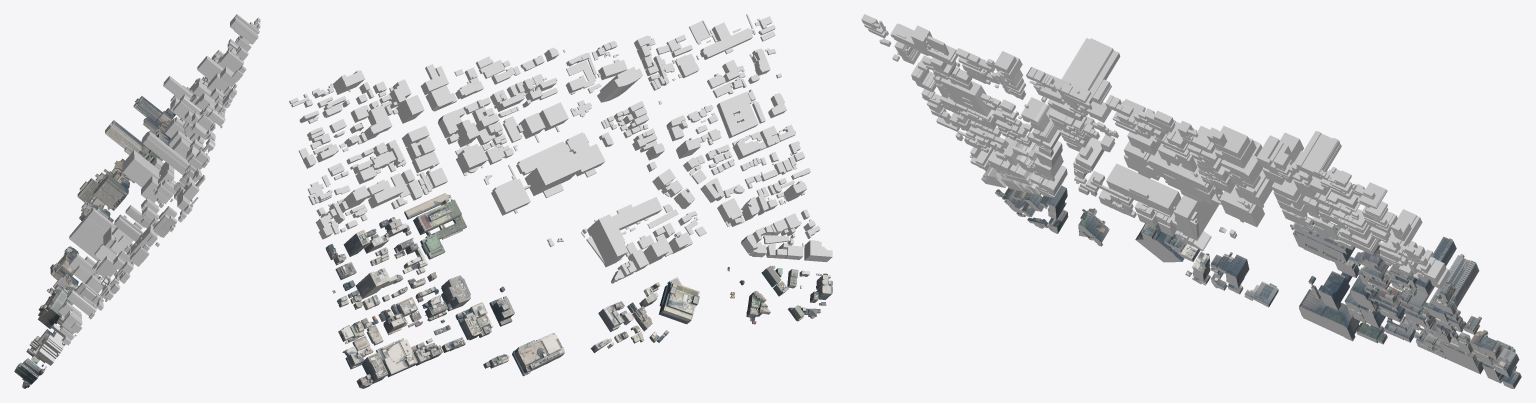
Rendered from data132.glb.
The picture shows the model from 3 angles, left to right: view 1: azimuth 30°, elevation 25°; view 2: azimuth 150°, elevation 25°; view 3: azimuth 270°, elevation 25°; orthographic projection. The views are drawn at different scales.
Bounding box in the file's own units: 881 × 521 × 974.
Materials: 2 (1 with a texture image).
